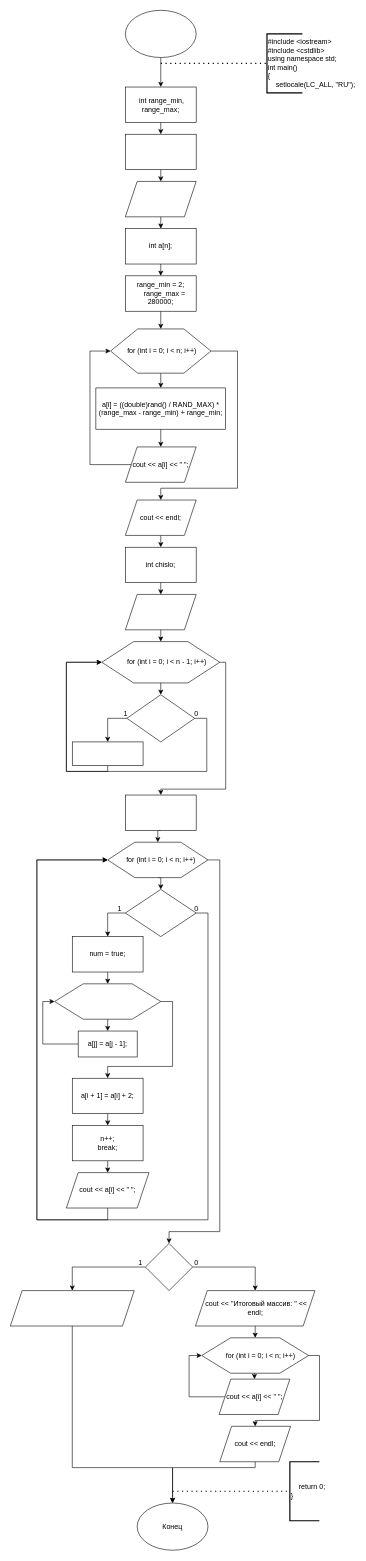
This 366x1561 diagram has some shape labels left out. The shapes that lost their labels are listed below. From the top down, each one's box as (x1, y1, x2, y2) in pixels, then its label:
(125, 10, 196, 58): Начало
(125, 134, 196, 170): int n;
(125, 181, 196, 217): cin >> n;
(125, 594, 196, 630): cin >> chislo;
(126, 694, 195, 742): if (chislo - 1 <= i)
(72, 741, 143, 766): a[i] = a[i + 1];
(125, 794, 196, 830): bool num = false;
(125, 889, 196, 937): if (a[i] % 2 == 0)
(54, 983, 161, 1019): for (int j = n; j > i + 1; j--)
(145, 1243, 193, 1291): if (!num)
(10, 1290, 134, 1326): cout << "В массиве нет четных элементов!" << endl;
